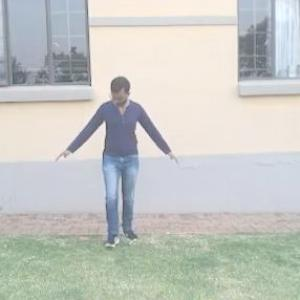land: (54, 53, 194, 262)
